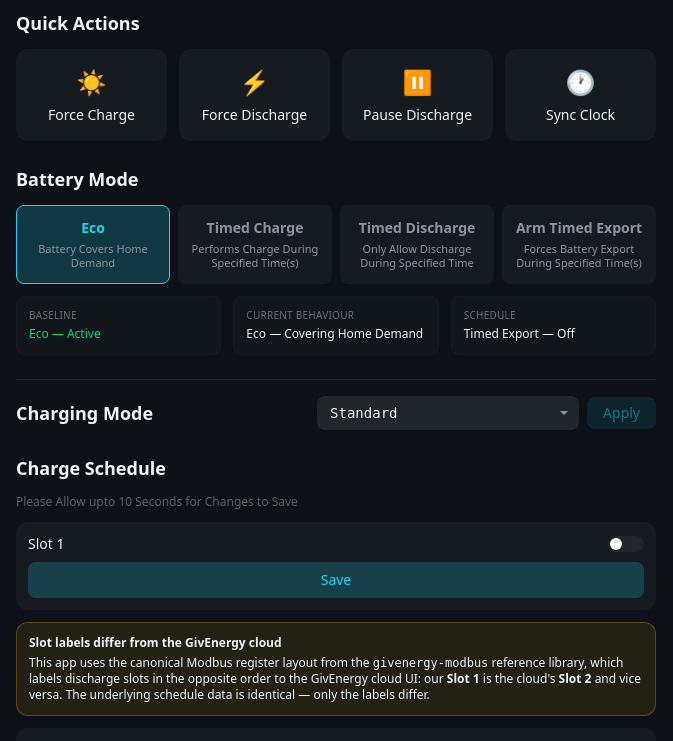
Test: <ControlPage/> — independent battery mechanisms › surfaces a backend rejection when Timed Export cannot be enabled
Click the button "Timed Export". click: click(579, 244)
box: [502,204,656,284]
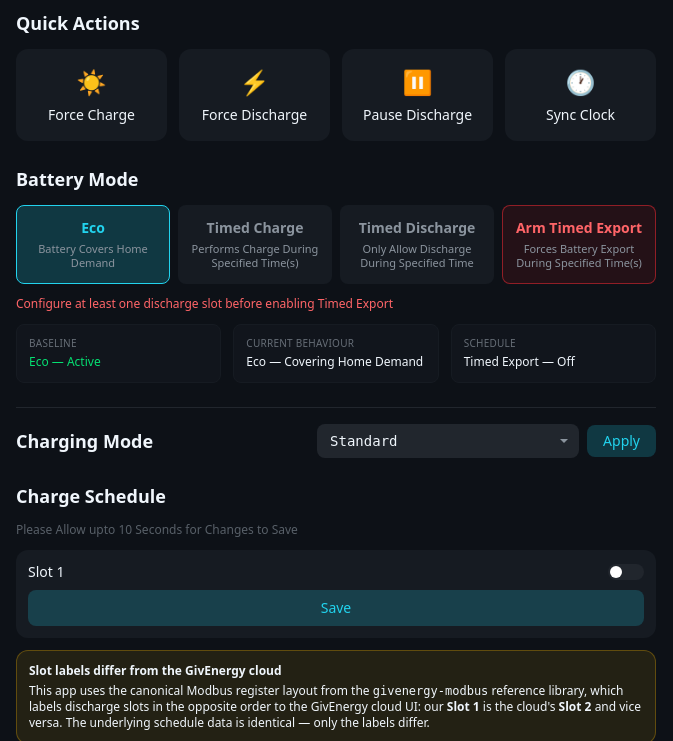
Now the message reads "Configure at least one discharge slot before enabling Timed Export", box [16,295,393,312]
